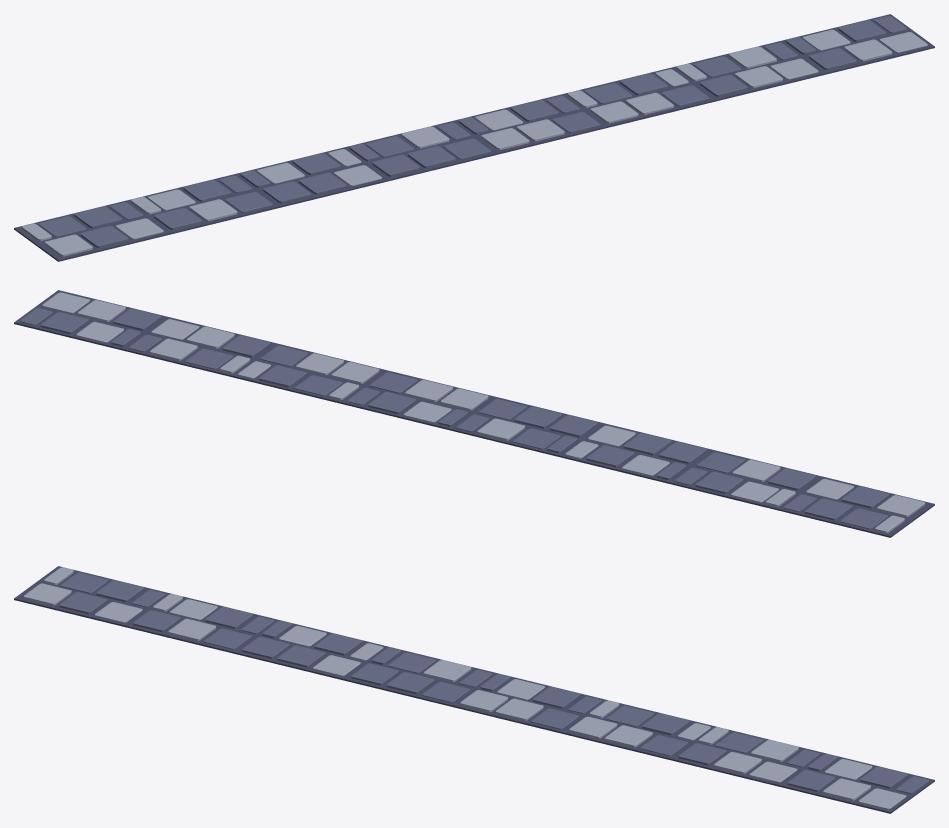
The model's file is F_Sidewalk_002.fbx.
The picture shows the model from 3 angles, top to bottom: view 1: azimuth 30°, elevation 25°; view 2: azimuth 150°, elevation 25°; view 3: azimuth 330°, elevation 25°; orthographic projection.
Parts seen in each view (by area): view 1: F_Sidewalk_002; view 2: F_Sidewalk_002; view 3: F_Sidewalk_002.
Boxes of the visible parts, bbox=[...] form: F_Sidewalk_002: bbox=[14, 14, 934, 261]; F_Sidewalk_002: bbox=[14, 290, 934, 537]; F_Sidewalk_002: bbox=[14, 566, 934, 813].
Size of the model in its own units: 13075 by 50.23 by 1146.
